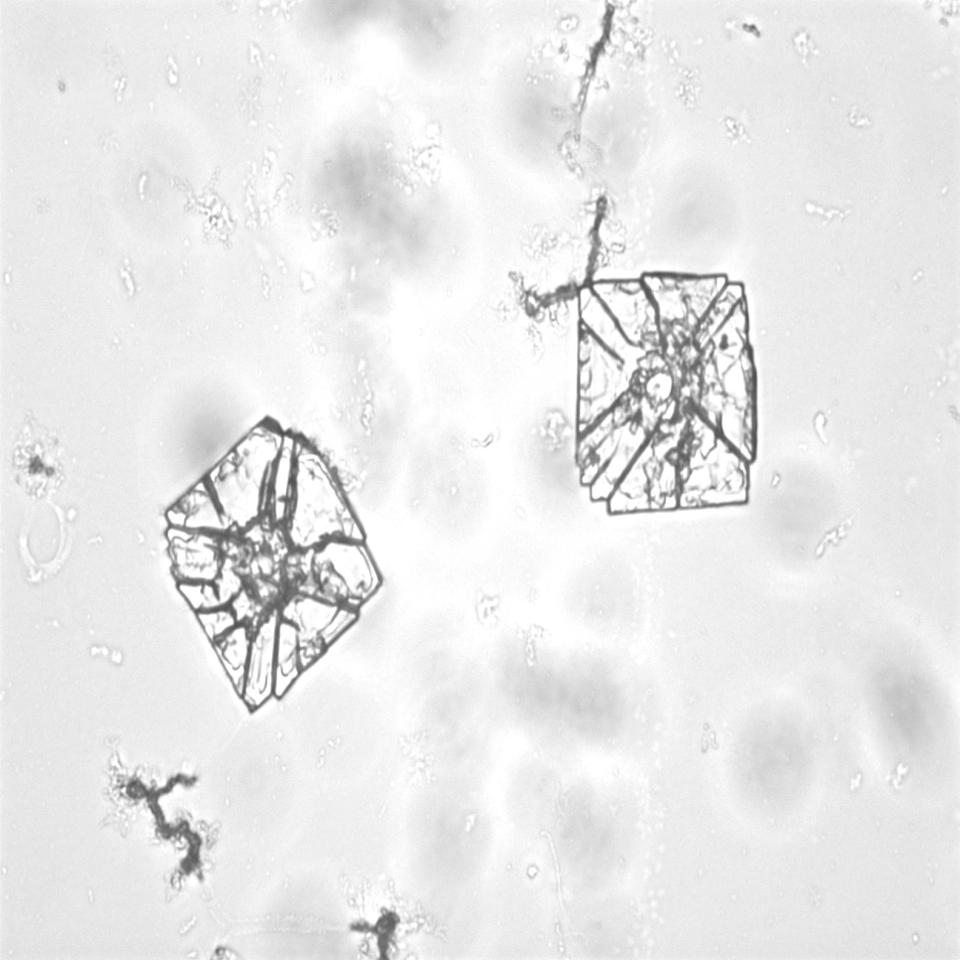crystal: (148, 403, 389, 722), (554, 258, 777, 556)
